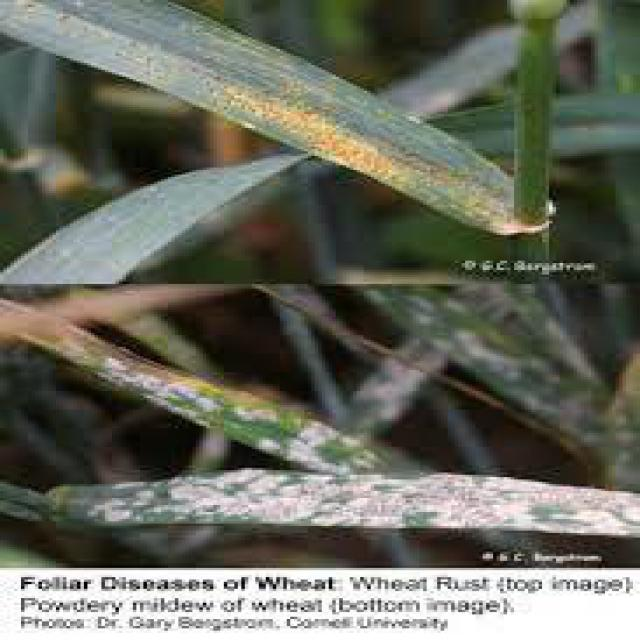wheat-powdery-mildew: (93, 469, 640, 536), (225, 86, 416, 195), (100, 354, 223, 429), (352, 356, 429, 419), (284, 421, 353, 474)
